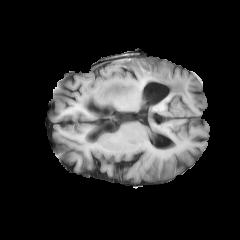glioma: (83, 57, 187, 99)
